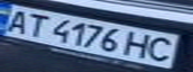1: (66, 20, 87, 47)
4: (45, 16, 72, 44)
6: (100, 25, 127, 54)
7: (81, 21, 103, 51)
A: (0, 7, 36, 34)
C: (142, 34, 184, 64)
H: (121, 29, 157, 60)
T: (21, 11, 54, 38)
